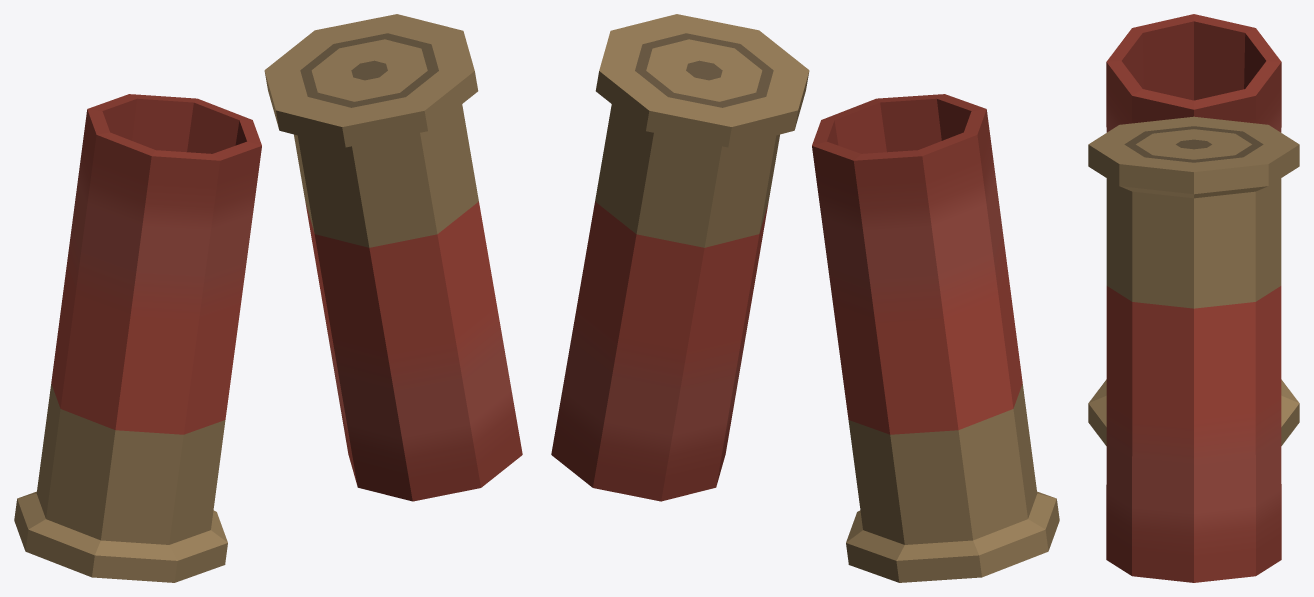
Rendered from SM_Prop_Evidence_Bag_02_Insert_01.fbx.
3 renders of one model, left to right at view 1: azimuth 30°, elevation 25°; view 2: azimuth 150°, elevation 25°; view 3: azimuth 270°, elevation 25°, orthographic. The views are drawn at different scales.
Visible parts, largest first — view 1: SM_Prop_Evidence_Bag_02_Insert_01; view 2: SM_Prop_Evidence_Bag_02_Insert_01; view 3: SM_Prop_Evidence_Bag_02_Insert_01.
Part boxes in pixels (box(x1,y1,x2,y2)): SM_Prop_Evidence_Bag_02_Insert_01: box(14, 14, 522, 582); SM_Prop_Evidence_Bag_02_Insert_01: box(551, 14, 1059, 582); SM_Prop_Evidence_Bag_02_Insert_01: box(1088, 14, 1299, 582).
Size of the model in its own units: 10.46 by 9.06 by 4.08.
